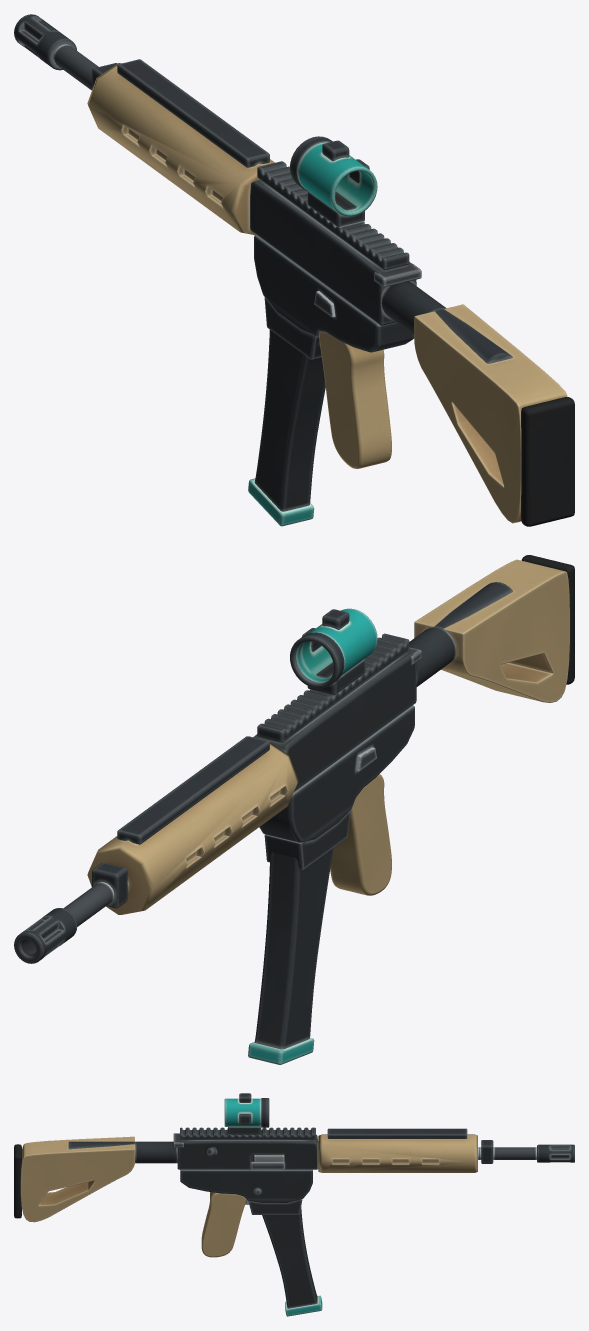
3 views of the same model, one above another, from view 1: azimuth 30°, elevation 25°; view 2: azimuth 150°, elevation 25°; view 3: azimuth 270°, elevation 25° (orthographic). The views are drawn at different scales.
Visible parts, largest first — view 1: m4_body, m4_mag, m4_charge; view 2: m4_body, m4_mag; view 3: m4_body, m4_mag.
Part boxes in pixels (x1,y1,x2,y2): m4_body: (14,14,574,526); m4_mag: (248,330,325,526); m4_charge: (374,263,421,287); m4_body: (14,555,574,963); m4_mag: (248,848,333,1064); m4_body: (14,1093,574,1257); m4_mag: (262,1207,322,1316).
Bounding box in the file's own units: 0.0633 × 0.3606 × 0.844.
1 material, 1 textured.
